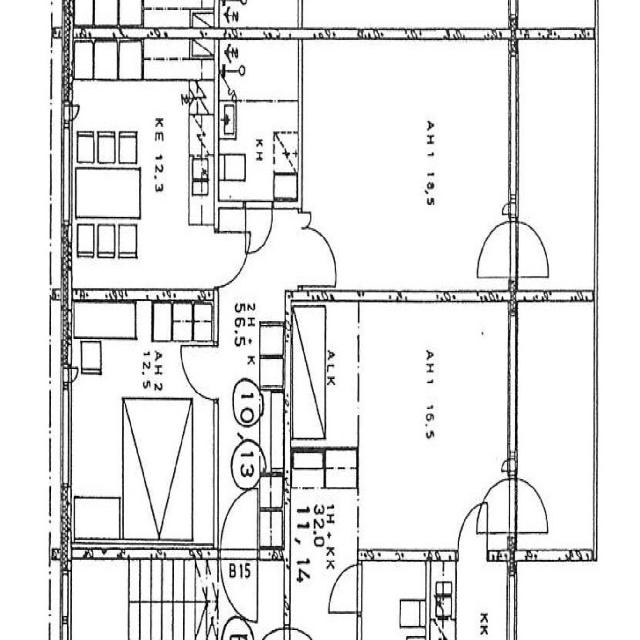door: (219, 486, 260, 557), (474, 218, 514, 280), (300, 222, 339, 283), (515, 217, 552, 279), (514, 475, 551, 536), (326, 560, 362, 617), (179, 345, 215, 398), (244, 202, 275, 259), (485, 477, 514, 533), (457, 504, 483, 540)
window: (62, 118, 78, 232), (60, 382, 76, 487), (506, 573, 520, 639)
zone: (302, 40, 504, 300), (353, 304, 505, 560), (67, 43, 213, 299), (69, 293, 215, 549), (218, 36, 301, 205), (288, 454, 358, 628), (292, 298, 359, 448), (435, 556, 514, 640), (357, 554, 430, 640), (430, 556, 456, 640)
